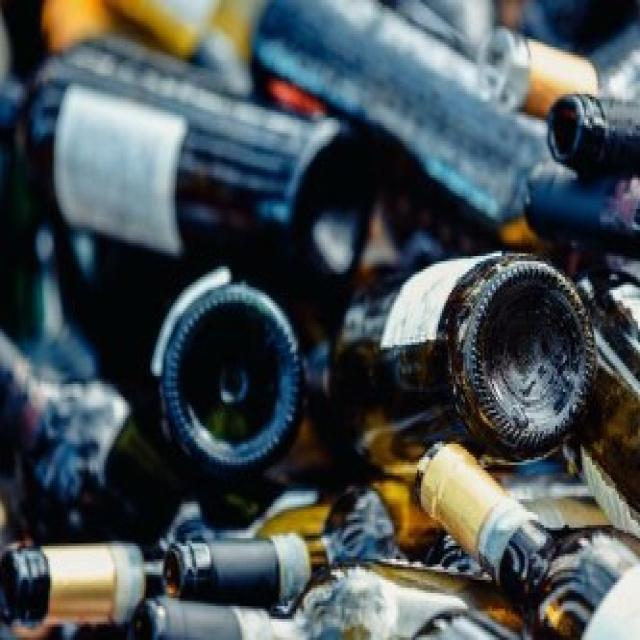electronic: (2, 36, 382, 303), (333, 250, 599, 451), (141, 250, 318, 494)
